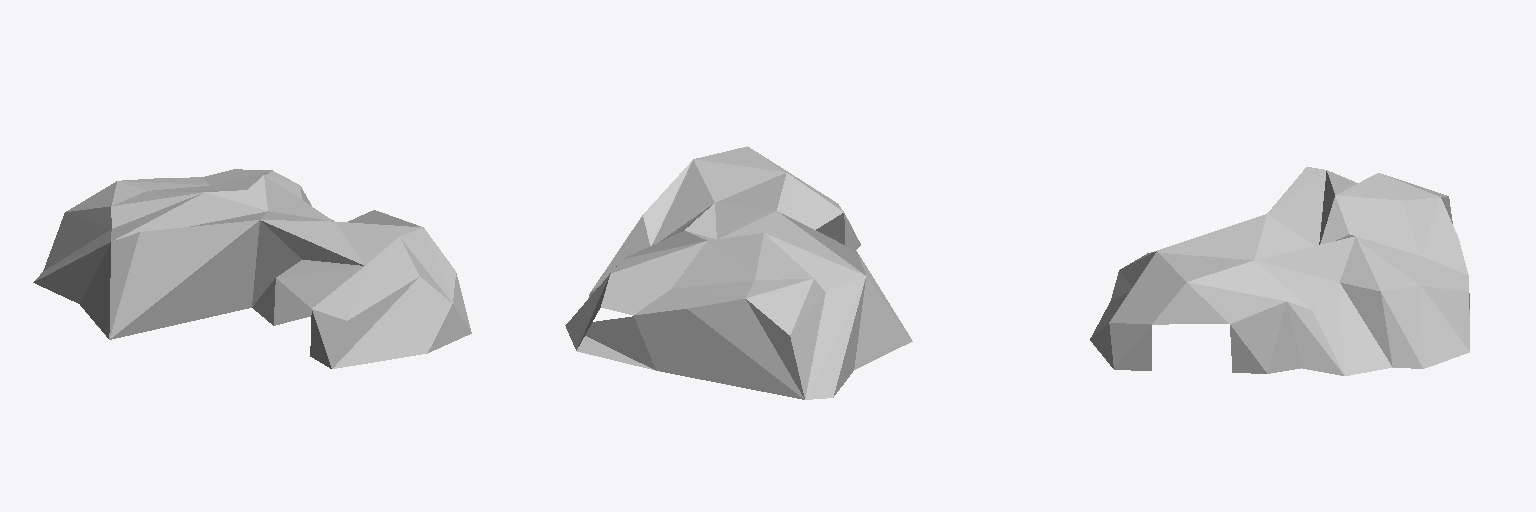
Rendered from Berge.obj.
3 renders of one model, left to right at view 1: azimuth 30°, elevation 25°; view 2: azimuth 150°, elevation 25°; view 3: azimuth 270°, elevation 25°, orthographic.
Visible parts, largest first — view 1: Cube; view 2: Cube; view 3: Cube.
Boxes of the visible parts, x1=… form: Cube: x1=33, y1=169, x2=471, y2=368; Cube: x1=565, y1=146, x2=912, y2=399; Cube: x1=1090, y1=167, x2=1469, y2=375.
Bounding box in the file's own units: 88.63 × 28.61 × 100.